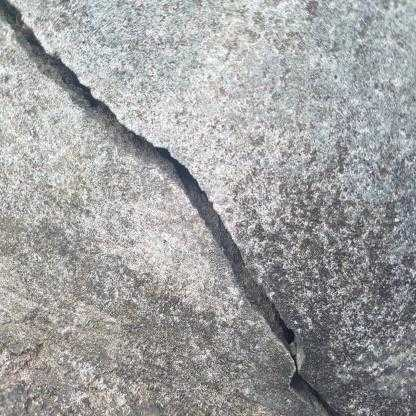crack: (1, 1, 338, 414)
